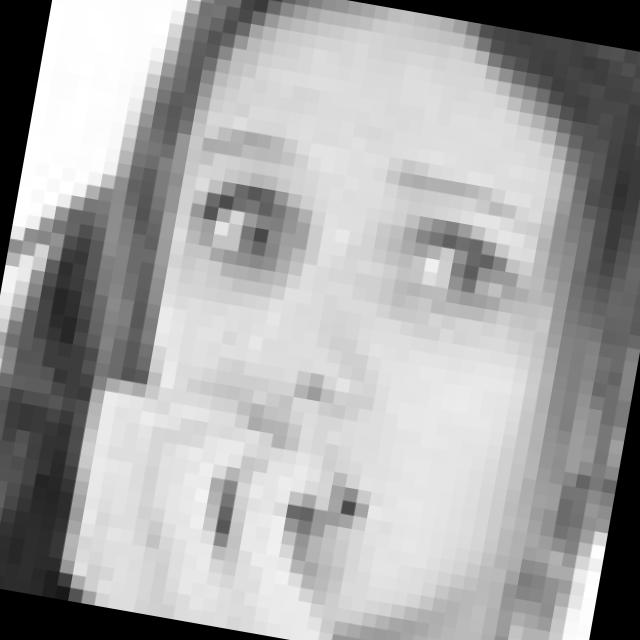fear: (122, 119, 563, 586)
